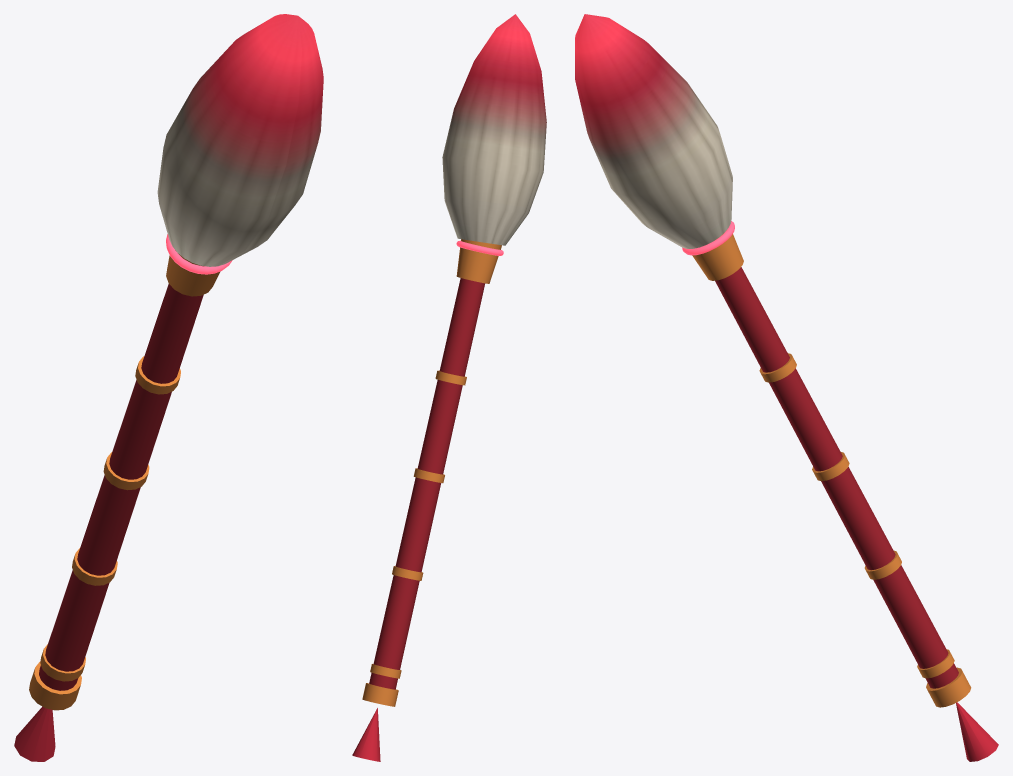
Rendered from hand_eqko3.glb.
The picture shows the model from 3 angles, left to right: view 1: azimuth 30°, elevation 25°; view 2: azimuth 150°, elevation 25°; view 3: azimuth 270°, elevation 25°; orthographic projection. The views are drawn at different scales.
Size of the model in its own units: 0.9447 by 6.38 by 3.25.
Materials: 5 (1 with a texture image).
